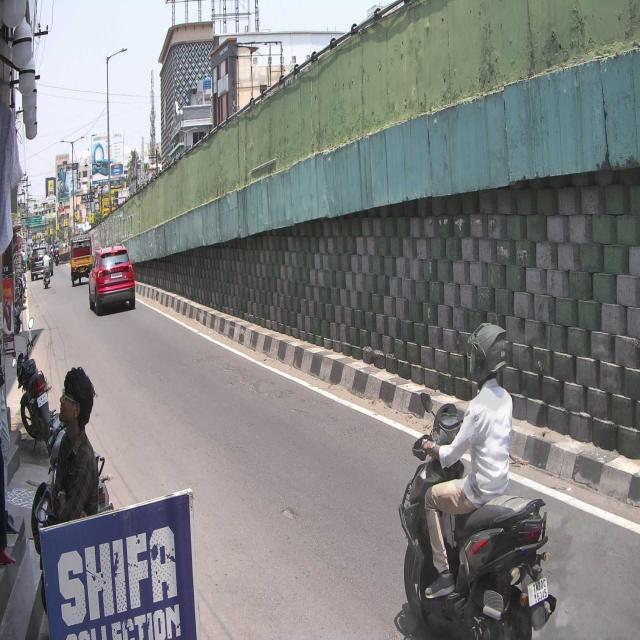single_rider: (399, 319, 556, 640)
